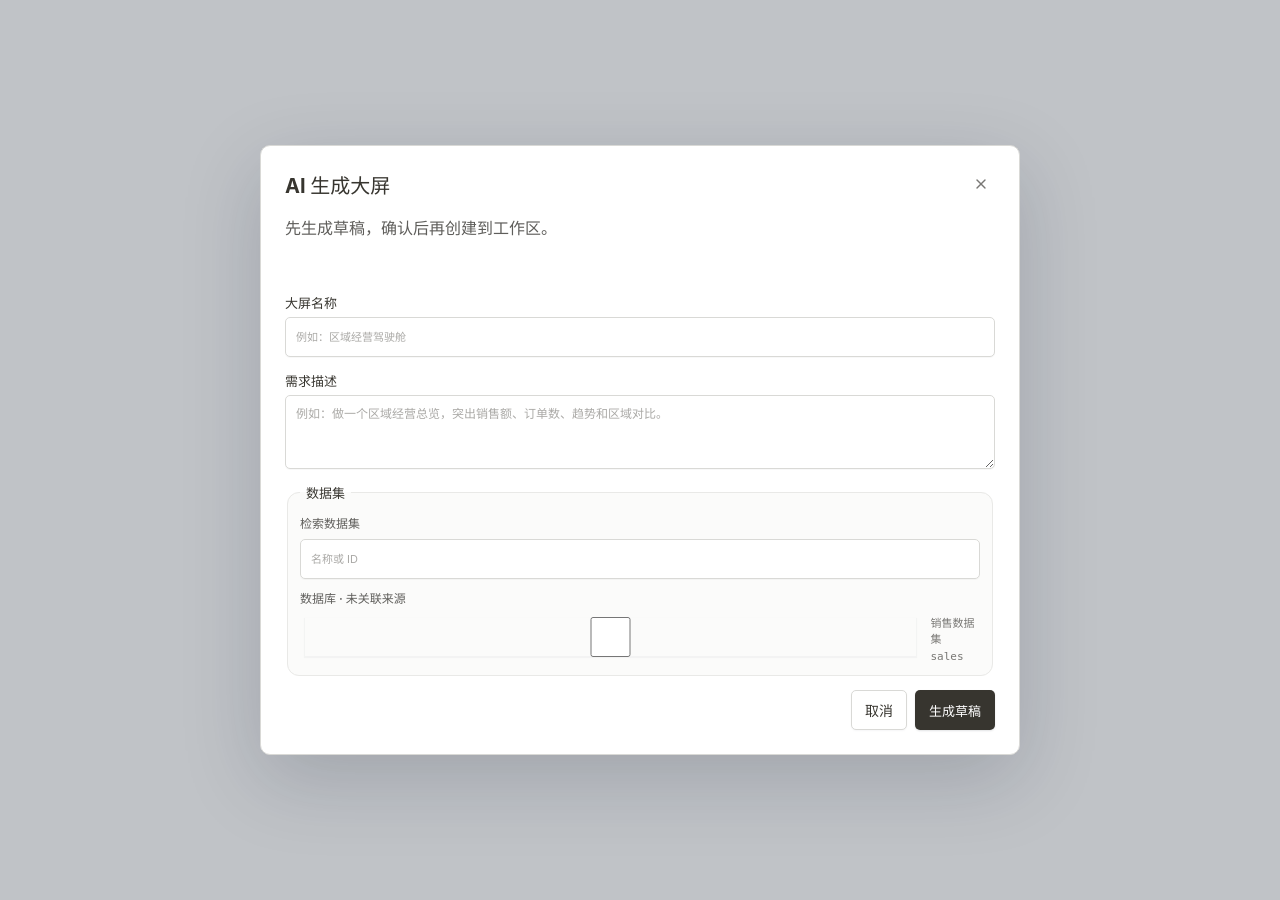
Test case: shows actionable component and field details for screen generation errors
The image size is (1280, 900).
In the field named "aiScreenName": (640, 337) [285, 317, 995, 357], type "销售大屏"
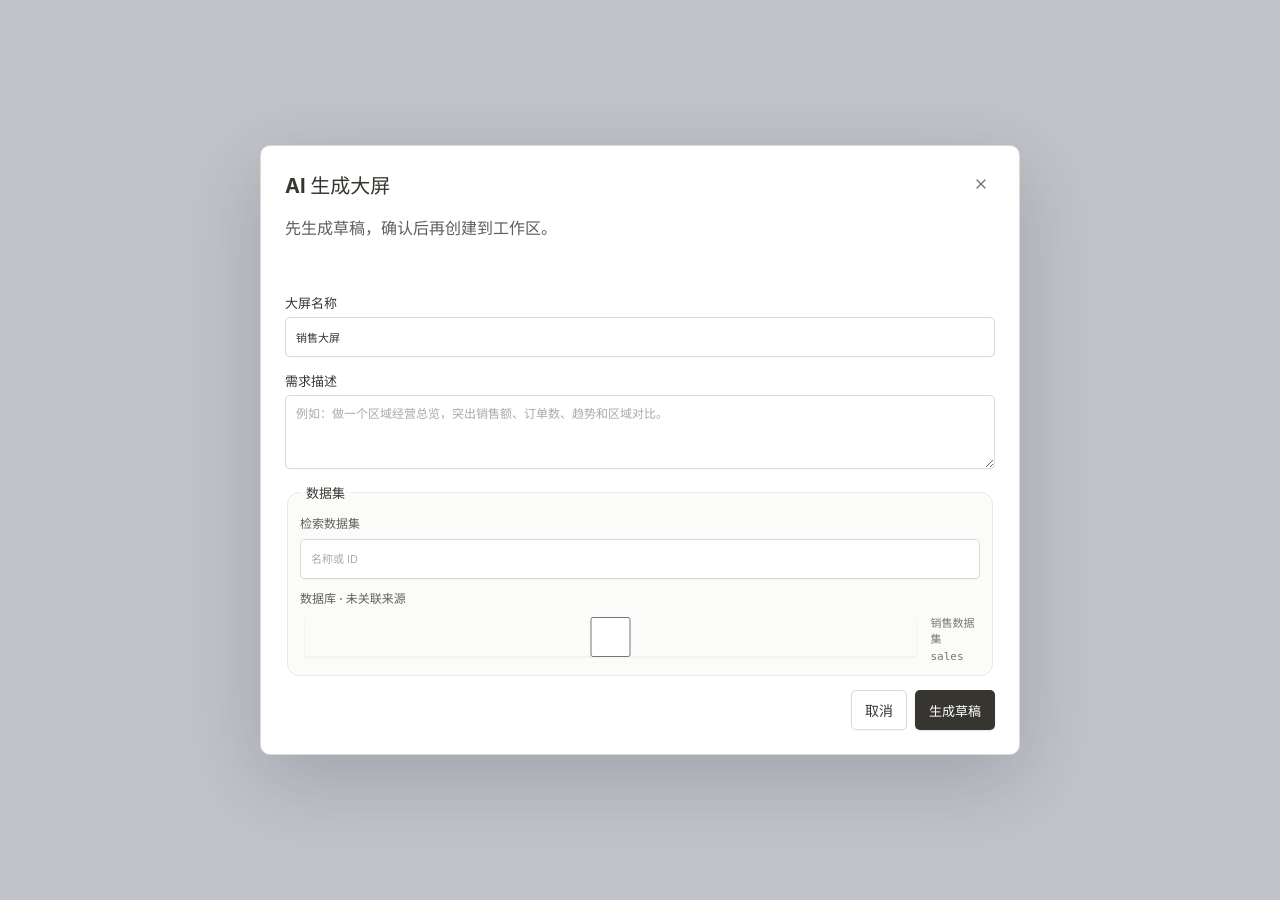
In the text box named "aiScreenQuestion": (640, 432) [285, 395, 995, 469], type "生成销售分析"
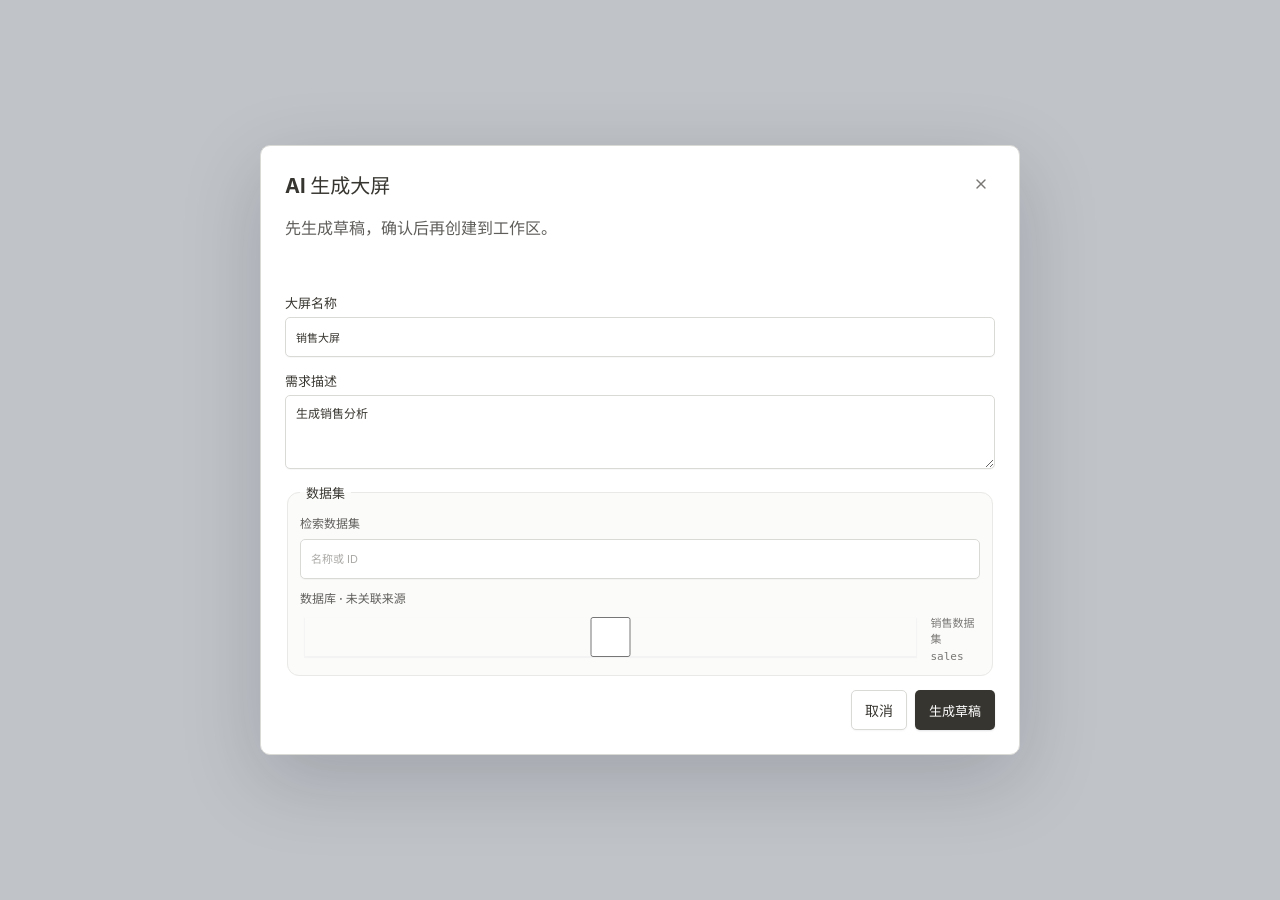
Click the checkbox named "aiScreenDatasets": (611, 637) [304, 617, 917, 657]
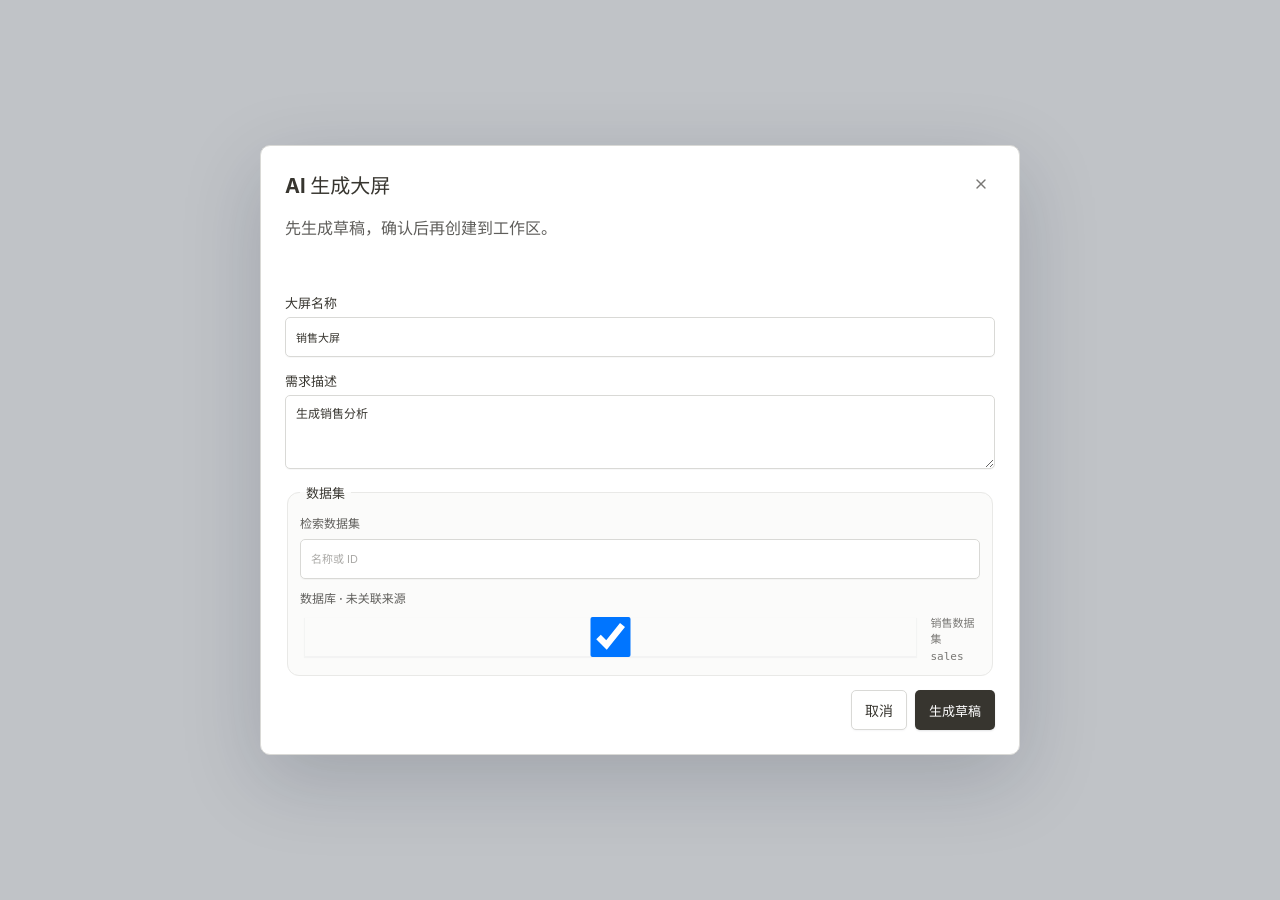
Submit the form, box [285, 293, 995, 730]
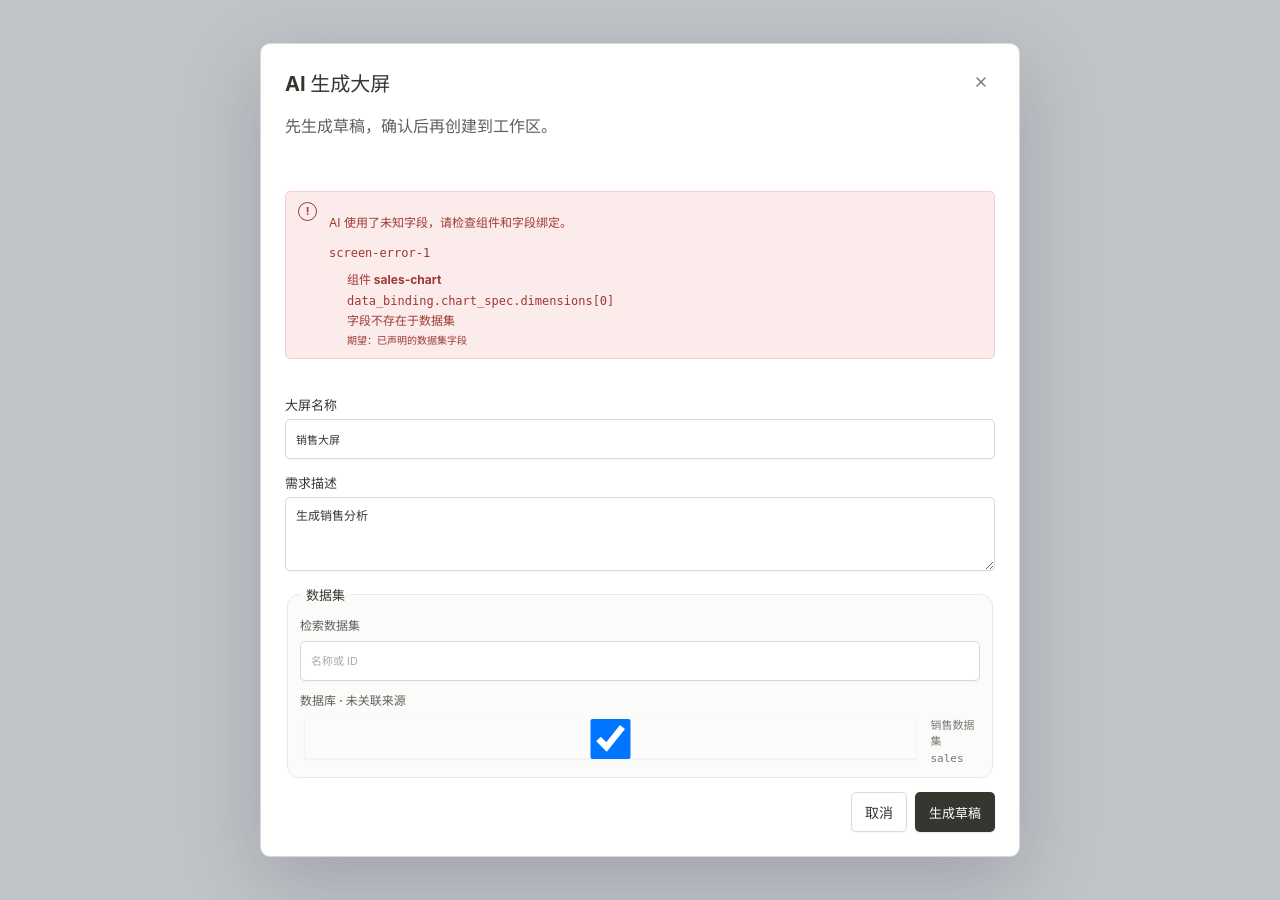
Expected: the text "sales-chart" is shown, [347, 272, 441, 287]
Expected: the text "data_binding.chart_spec.dimensions[0]" is shown, [347, 294, 614, 308]
Expected: the text "字段不存在于数据集" is shown, [347, 313, 455, 328]
